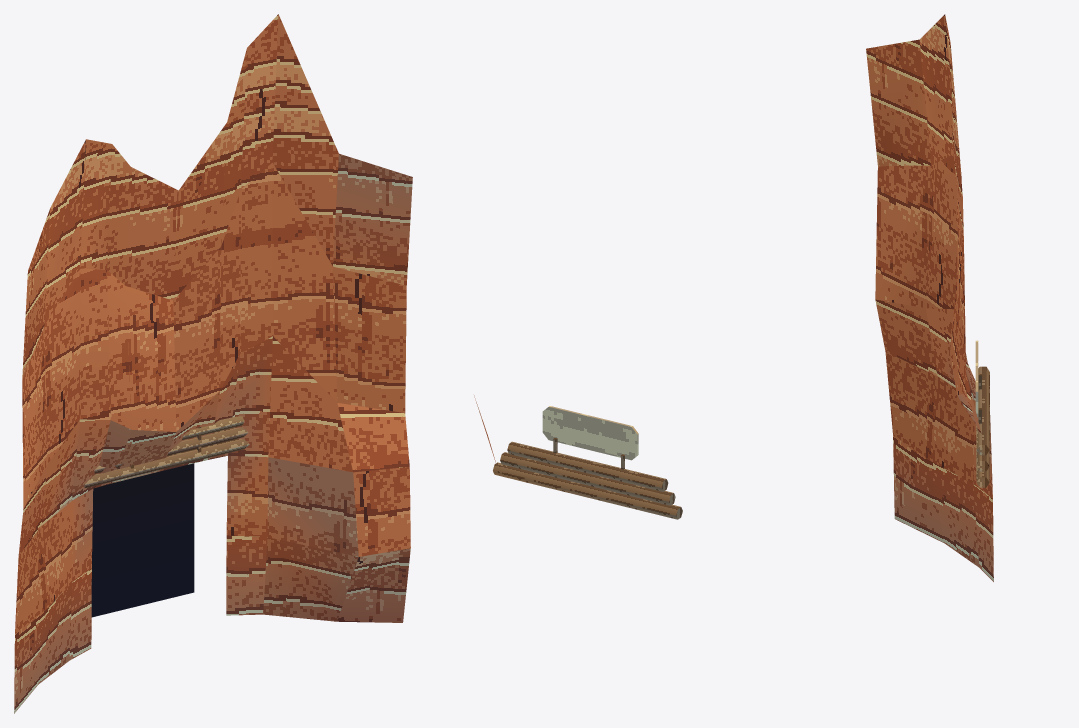
File: wmine.portal__canyon.glb
The picture shows the model from 3 angles, left to right: view 1: azimuth 30°, elevation 25°; view 2: azimuth 150°, elevation 25°; view 3: azimuth 270°, elevation 25°; orthographic projection. The views are drawn at different scales.
Visible parts, largest first — view 1: kit_shell_face, kit_card_depth, kit_lagging; view 2: kit_lagging, kit_trim; view 3: kit_shell_face, kit_lagging.
Boxes of the visible parts, box(x1,y1,x2,y2) form: kit_shell_face: box(14, 14, 412, 713); kit_card_depth: box(91, 463, 194, 617); kit_lagging: box(84, 416, 249, 487); kit_lagging: box(493, 441, 682, 519); kit_trim: box(542, 406, 638, 460); kit_shell_face: box(866, 14, 993, 581); kit_lagging: box(976, 366, 989, 487).
Bounding box in the file's own units: 8 × 12.2 × 3.45.
7 materials, 7 textured.
